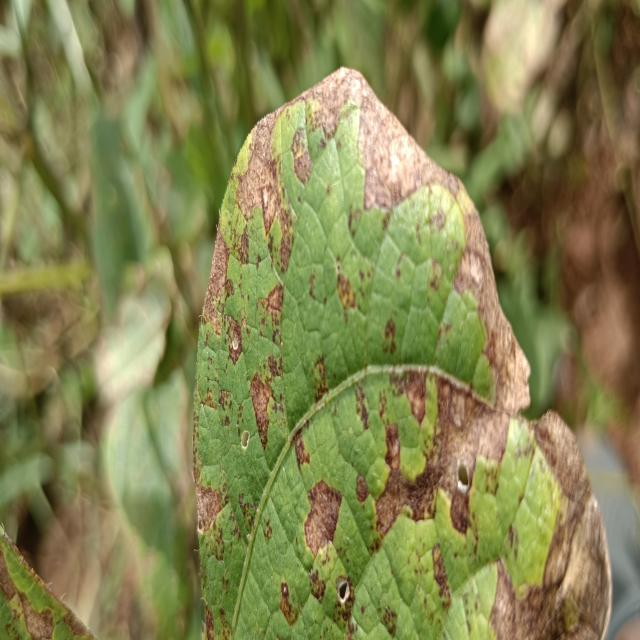Black gram_leaf spot: (194, 64, 612, 640)
